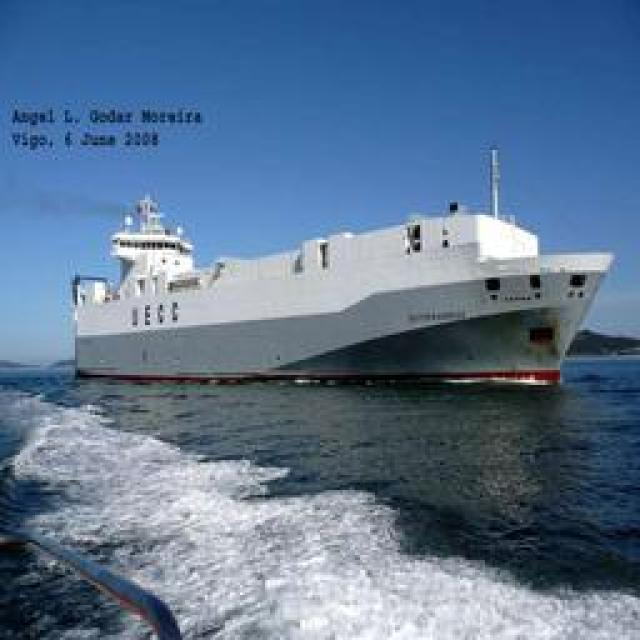CIV_Ship: (70, 175, 615, 390)
